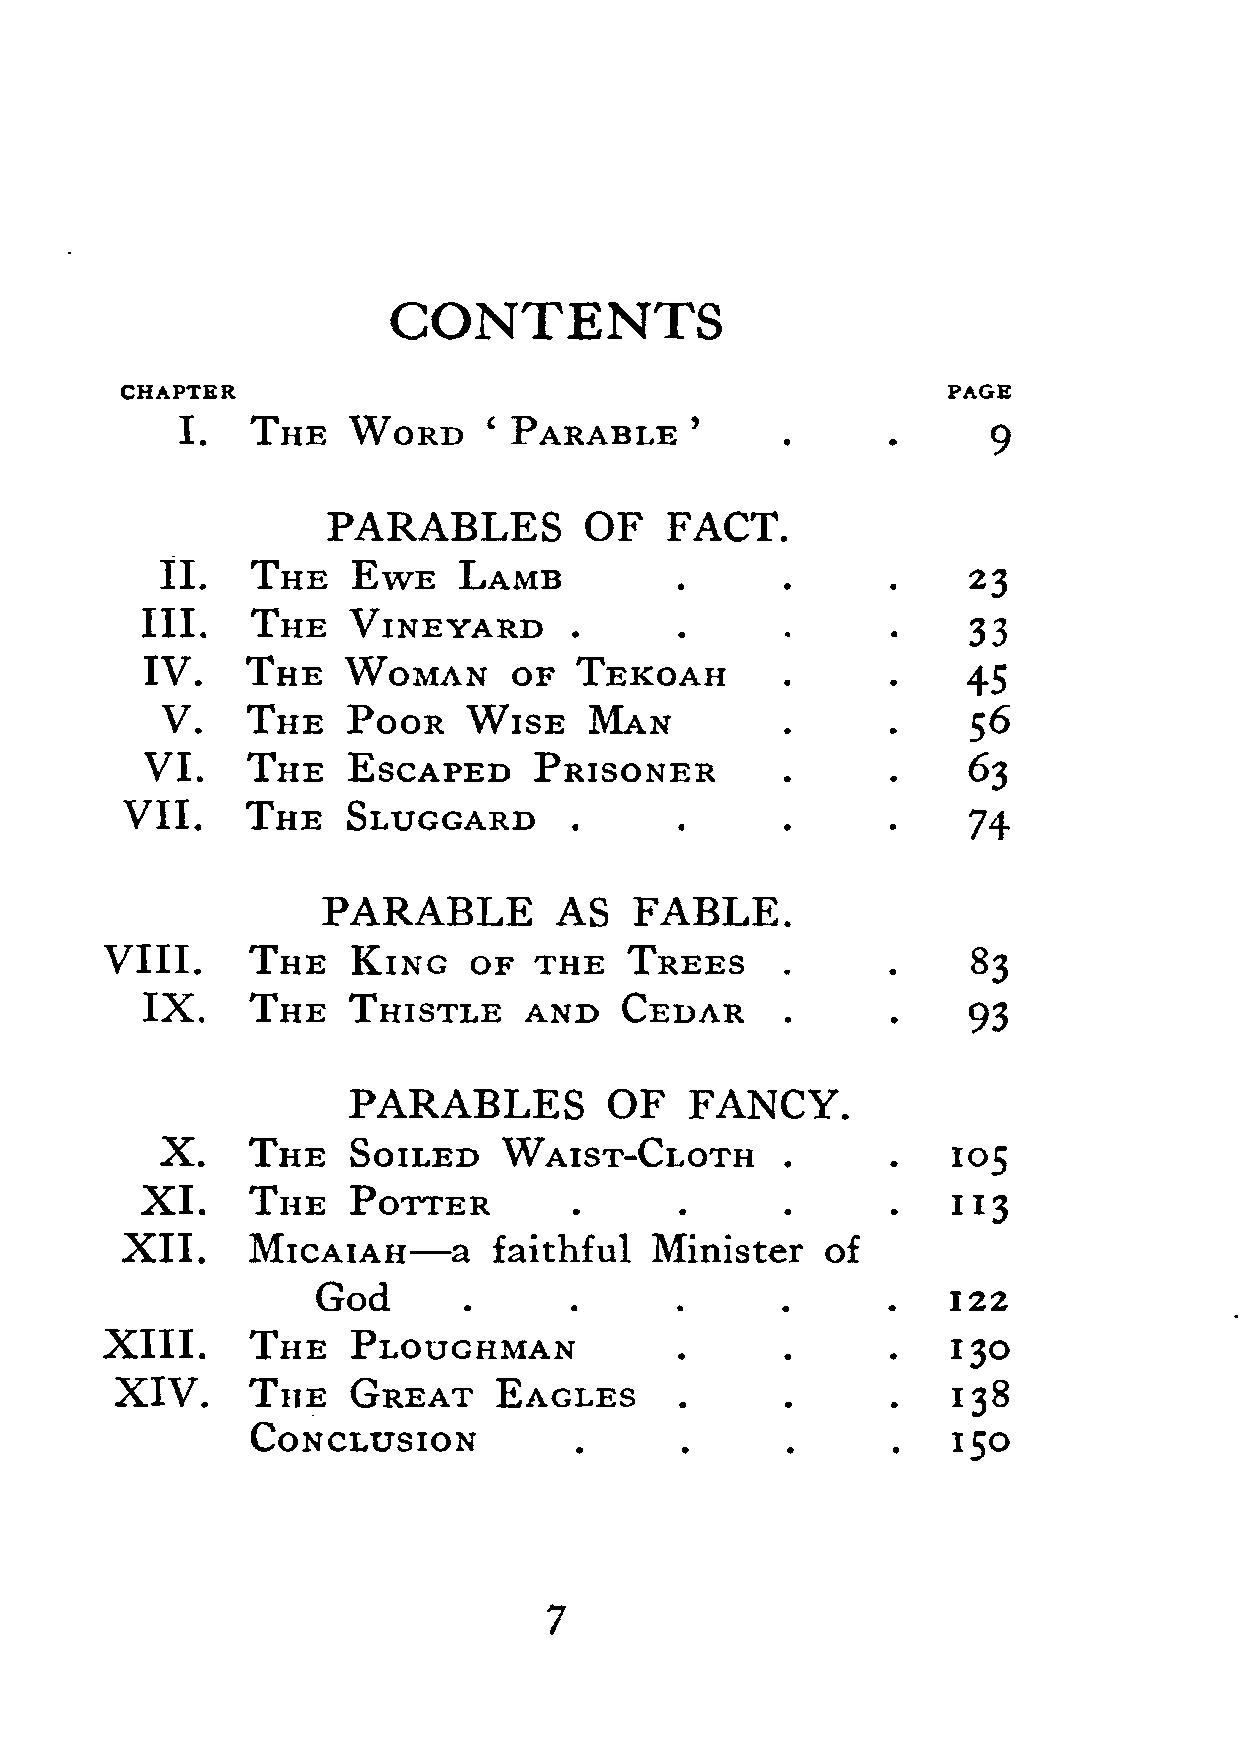TOC_chapter: (122, 1231, 862, 1315), (109, 1374, 639, 1453), (99, 939, 743, 977), (140, 988, 747, 1027), (176, 408, 705, 452), (140, 650, 727, 688), (158, 1133, 753, 1170), (140, 747, 718, 784), (349, 1084, 852, 1125), (319, 888, 793, 930), (322, 509, 790, 548), (153, 701, 675, 735), (99, 1325, 577, 1362), (117, 794, 539, 833), (160, 552, 570, 590), (136, 603, 549, 639), (140, 1180, 490, 1220)
TOC_pagenumber: (947, 1377, 1013, 1418), (946, 1186, 1011, 1227), (946, 1334, 1013, 1372), (945, 1141, 1011, 1176), (947, 1429, 1011, 1465), (961, 941, 1011, 985), (947, 1284, 1011, 1314), (964, 994, 1011, 1033), (969, 749, 1011, 790), (969, 705, 1011, 745), (962, 662, 1008, 697), (969, 805, 1011, 841), (980, 416, 1012, 459), (968, 565, 1008, 599), (968, 615, 1008, 647)
chapter: (386, 297, 726, 341)
content_pagenumber: (538, 1605, 570, 1637)
